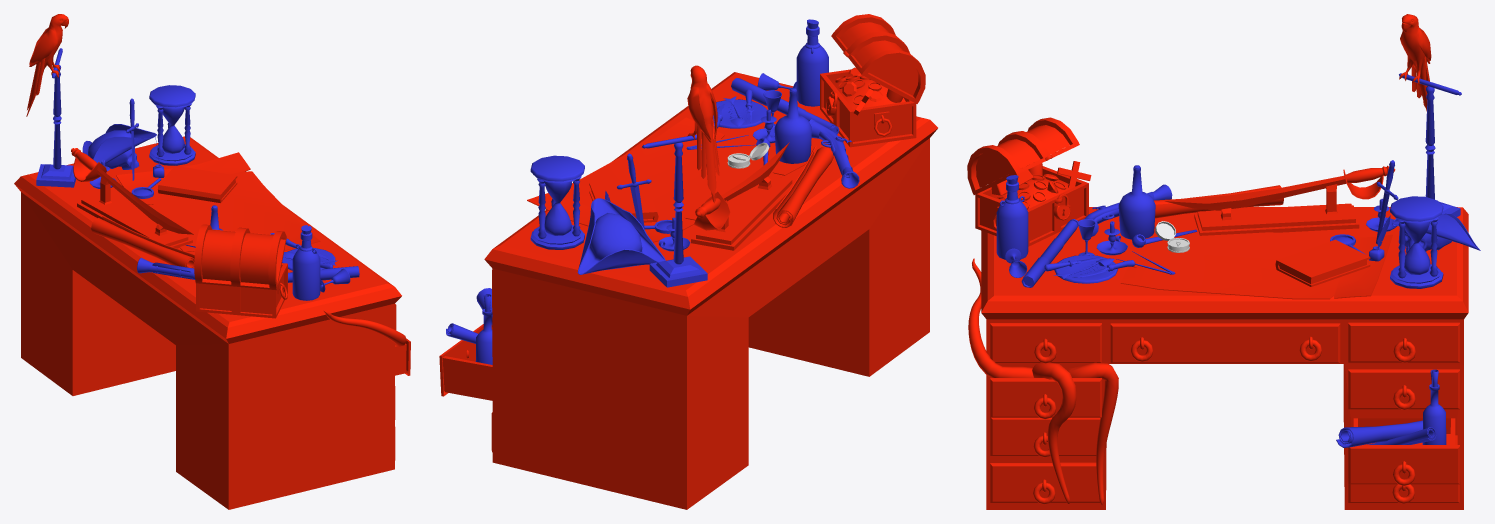
Rendered from 1IGP30_D_Lebegge_Felicien_A03_ArtisansDeskP1_Composition.fbx.
The picture shows the model from 3 angles, left to right: view 1: azimuth 30°, elevation 25°; view 2: azimuth 150°, elevation 25°; view 3: azimuth 270°, elevation 25°; orthographic projection. The views are drawn at different scales.
Parts seen in each view (by area): view 1: SM_Desk, SM_Map, Cylinder.003, SM_Chest, Cylinder.005, Cube.002, Cube.007, SM_Map_Rolled.001, SM_Rum_Bottle, SM_PirateHat, Cylinder.012, Cube.006 (+7 smaller); view 2: SM_Desk, SM_Map, SM_PirateHat, SM_Chest, Cube.002, Cylinder.005, Cylinder.003, Cylinder.012, SM_Rum_Bottle, Cube, SM_RumBottle_02, SM_Map_Rolled.001 (+14 smaller); view 3: SM_Desk, SM_Map, SM_LongDrawer, SM_Drawer.011, SM_Drawer.013, SM_Drawer, SM_Drawer.012, Cube.002, SM_Drawer.010, SM_Drawer.009, SM_Drawer.008, SM_Chest (+22 smaller).
Boxes of the visible parts, bbox=[...] form: SM_Desk: bbox=[14, 136, 401, 509]; SM_Map: bbox=[116, 152, 320, 254]; Cylinder.003: bbox=[202, 229, 273, 284]; SM_Chest: bbox=[196, 263, 287, 318]; Cylinder.005: bbox=[194, 224, 286, 290]; Cube.002: bbox=[77, 194, 192, 248]; Cube.007: bbox=[158, 165, 237, 202]; SM_Map_Rolled.001: bbox=[91, 215, 194, 268]; SM_Rum_Bottle: bbox=[292, 225, 320, 300]; SM_PirateHat: bbox=[82, 124, 156, 163]; Cylinder.012: bbox=[149, 85, 195, 165]; Cube.006: bbox=[26, 14, 68, 116]; SM_Desk: bbox=[484, 72, 937, 509]; SM_Map: bbox=[527, 117, 806, 242]; SM_PirateHat: bbox=[577, 198, 665, 274]; SM_Chest: bbox=[820, 69, 916, 147]; Cube.002: bbox=[691, 175, 794, 250]; Cylinder.005: bbox=[831, 14, 925, 103]; Cylinder.003: bbox=[839, 22, 918, 95]; Cylinder.012: bbox=[530, 155, 584, 249]; SM_Rum_Bottle: bbox=[796, 19, 828, 106]; Cube: bbox=[442, 325, 492, 400]; SM_RumBottle_02: bbox=[774, 88, 811, 163]; SM_Map_Rolled.001: bbox=[773, 146, 833, 227]; SM_Desk: bbox=[981, 207, 1468, 509]; SM_Map: bbox=[1120, 225, 1392, 299]; SM_LongDrawer: bbox=[1110, 323, 1340, 363]; SM_Drawer.011: bbox=[1348, 322, 1459, 362]; SM_Drawer.013: bbox=[1348, 445, 1459, 484]; SM_Drawer: bbox=[990, 323, 1101, 362]; SM_Drawer.012: bbox=[1348, 369, 1459, 409]; Cube.002: bbox=[1194, 203, 1359, 235]; SM_Drawer.010: bbox=[990, 462, 1100, 502]; SM_Drawer.009: bbox=[990, 417, 1100, 455]; SM_Drawer.008: bbox=[990, 378, 1101, 417]; SM_Chest: bbox=[975, 166, 1088, 246].
Size of the model in its own units: 121 by 169 by 192.
